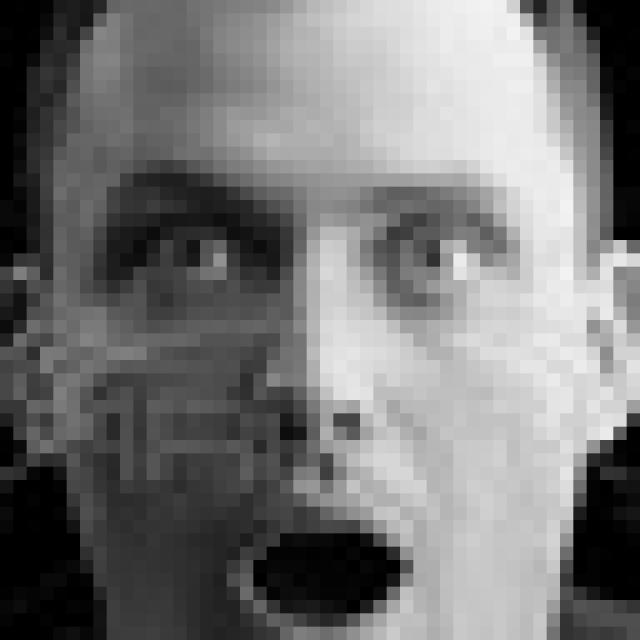surprise: (96, 161, 517, 640)
